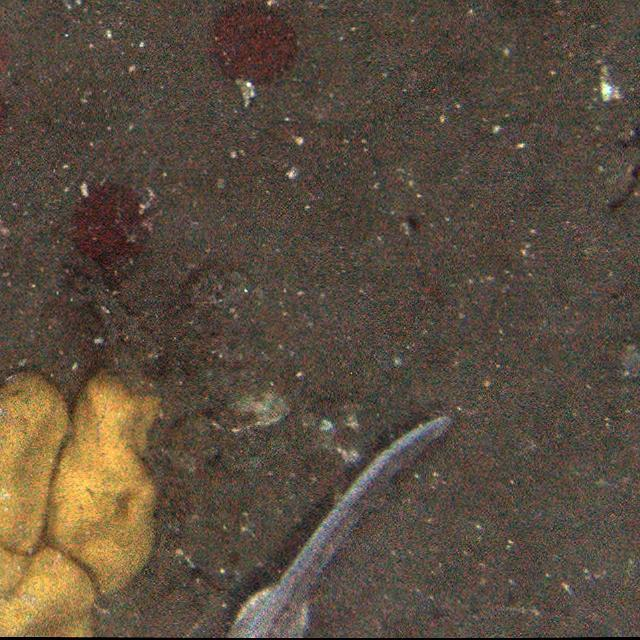skate: (222, 406, 466, 638)
